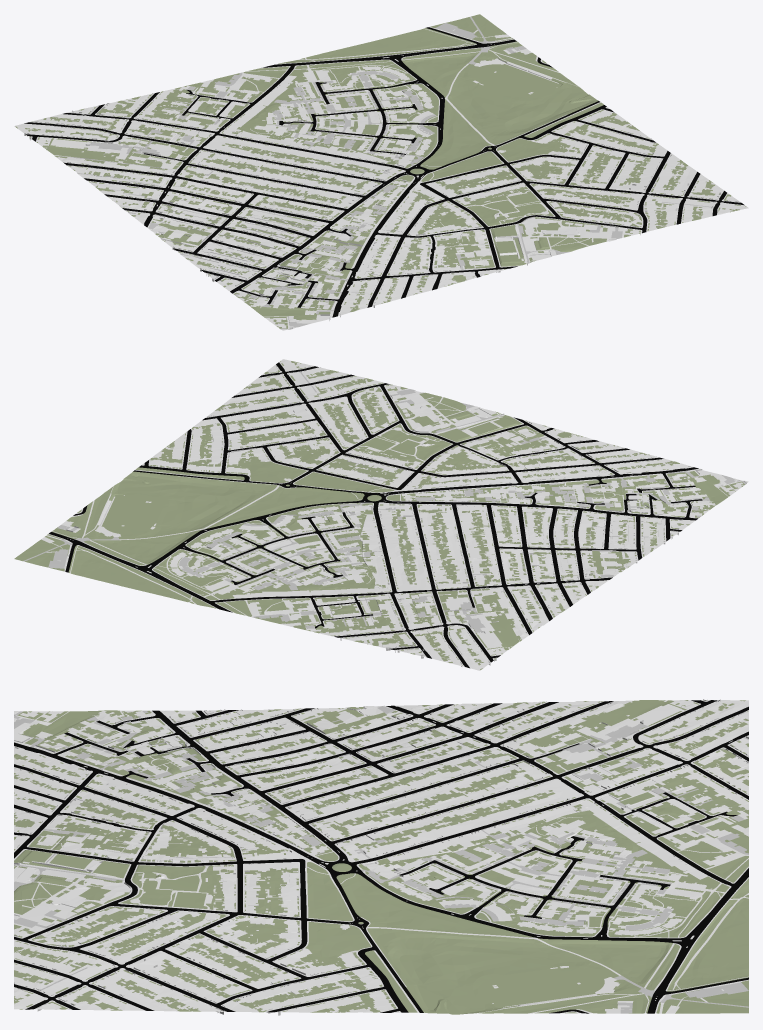
The model's file is TQ2871_Terrain_LOD_1_draco.glb.
The picture shows the model from 3 angles, top to bottom: view 1: azimuth 30°, elevation 25°; view 2: azimuth 150°, elevation 25°; view 3: azimuth 270°, elevation 25°; orthographic projection. The views are drawn at different scales.
Visible parts, largest first — view 1: TQ2871_Terrain; view 2: TQ2871_Terrain; view 3: TQ2871_Terrain.
Boxes of the visible parts, x1,y1,x2,y2 form: TQ2871_Terrain: (14, 14, 748, 330); TQ2871_Terrain: (14, 359, 748, 670); TQ2871_Terrain: (14, 699, 748, 1015).
Size of the model in its own units: 1000 by 28.51 by 1000.
1 material, 1 textured.
